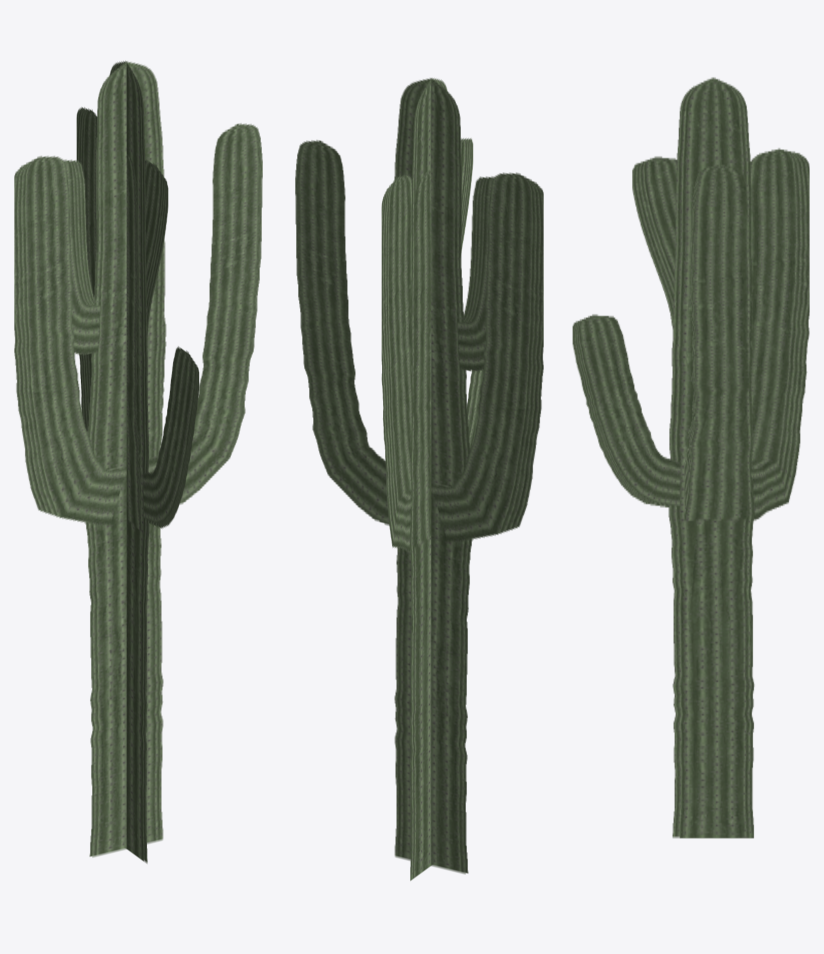
File: CarnegieaSaguaro.glb
3 renders of one model, left to right at view 1: azimuth 30°, elevation 25°; view 2: azimuth 150°, elevation 25°; view 3: azimuth 270°, elevation 25°, orthographic. The views are drawn at different scales.
Visible parts, largest first — view 1: mesh__mat_billboard_1; view 2: mesh__mat_billboard_1; view 3: mesh__mat_billboard_1.
Boxes of the visible parts, x1,y1,x2,y2 form: mesh__mat_billboard_1: [14, 61, 262, 863]; mesh__mat_billboard_1: [295, 78, 543, 880]; mesh__mat_billboard_1: [572, 77, 809, 838].
Bounding box in the file's own units: 2.33 × 7.44 × 1.98.
1 material, 1 textured.
